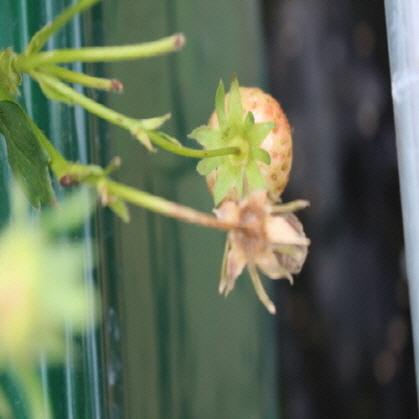Gray Mold: (175, 189, 312, 315)
